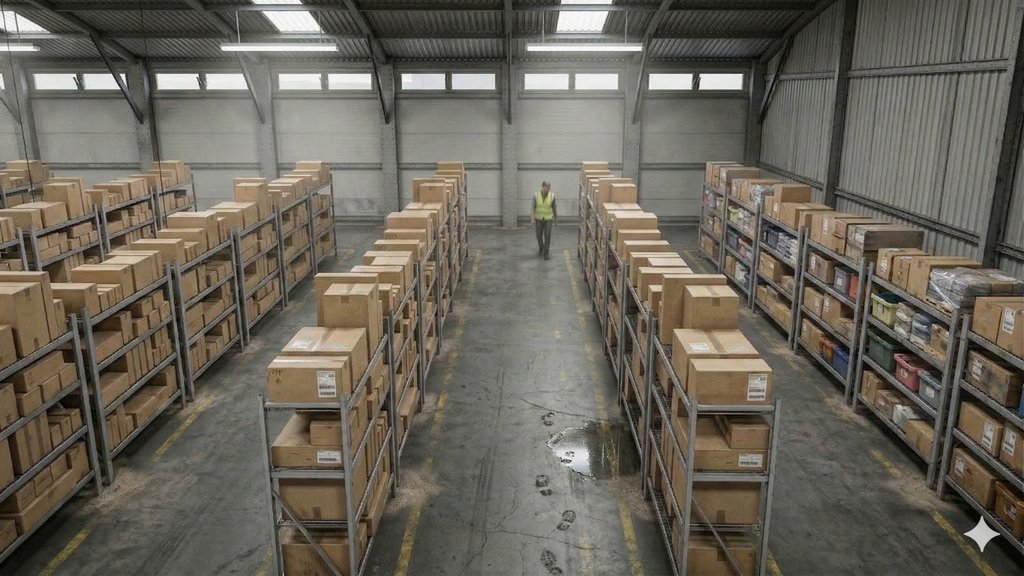person: (524, 166, 569, 272)
safety_vest: (530, 186, 557, 230)
spill: (488, 399, 643, 517)
